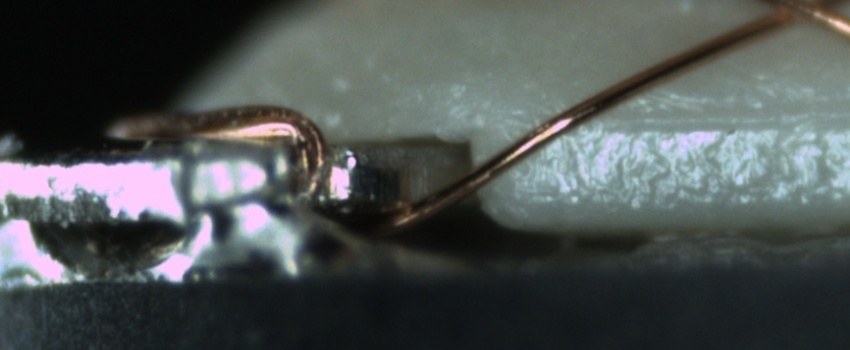CL: (751, 1, 842, 32)
DL: (594, 87, 849, 150)
TE: (102, 93, 335, 212)
